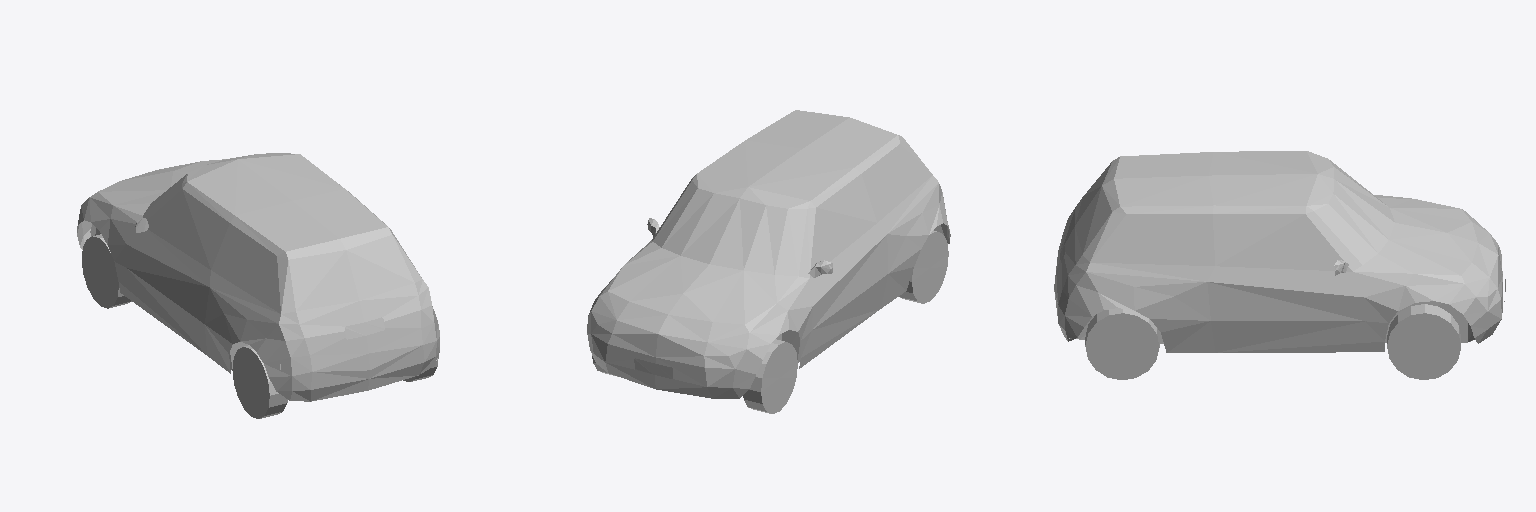
Rendered from car.obj.
3 renders of one model, left to right at view 1: azimuth 30°, elevation 25°; view 2: azimuth 150°, elevation 25°; view 3: azimuth 270°, elevation 25°, orthographic.
Parts seen in each view (by area): view 1: Object_52body.jpg, Object_52tyre.jpg, Object_52tyreSF.jpg, Object_52rek.jpg; view 2: Object_52body.jpg, Object_52tyre.jpg, Object_52tyreSF.jpg, Object_default-grey.jpg; view 3: Object_52body.jpg, Object_52tyre.jpg, Object_52tyreSF.jpg, Object_default-grey.jpg.
Boxes of the visible parts, x1=… form: Object_52body.jpg: x1=77, y1=153, x2=439, y2=401; Object_52tyre.jpg: x1=82, y1=236, x2=415, y2=418; Object_52tyreSF.jpg: x1=93, y1=234, x2=438, y2=418; Object_52rek.jpg: x1=345, y1=317, x2=384, y2=339; Object_52body.jpg: x1=587, y1=110, x2=950, y2=398; Object_52tyre.jpg: x1=761, y1=232, x2=948, y2=413; Object_52tyreSF.jpg: x1=592, y1=230, x2=936, y2=413; Object_default-grey.jpg: x1=647, y1=218, x2=947, y2=362; Object_52body.jpg: x1=1054, y1=151, x2=1502, y2=352; Object_52tyre.jpg: x1=1085, y1=313, x2=1460, y2=379; Object_52tyreSF.jpg: x1=1085, y1=304, x2=1460, y2=346; Object_default-grey.jpg: x1=1069, y1=260, x2=1474, y2=343.
Bounding box in the file's own units: 1.18 × 1.01 × 2.5.